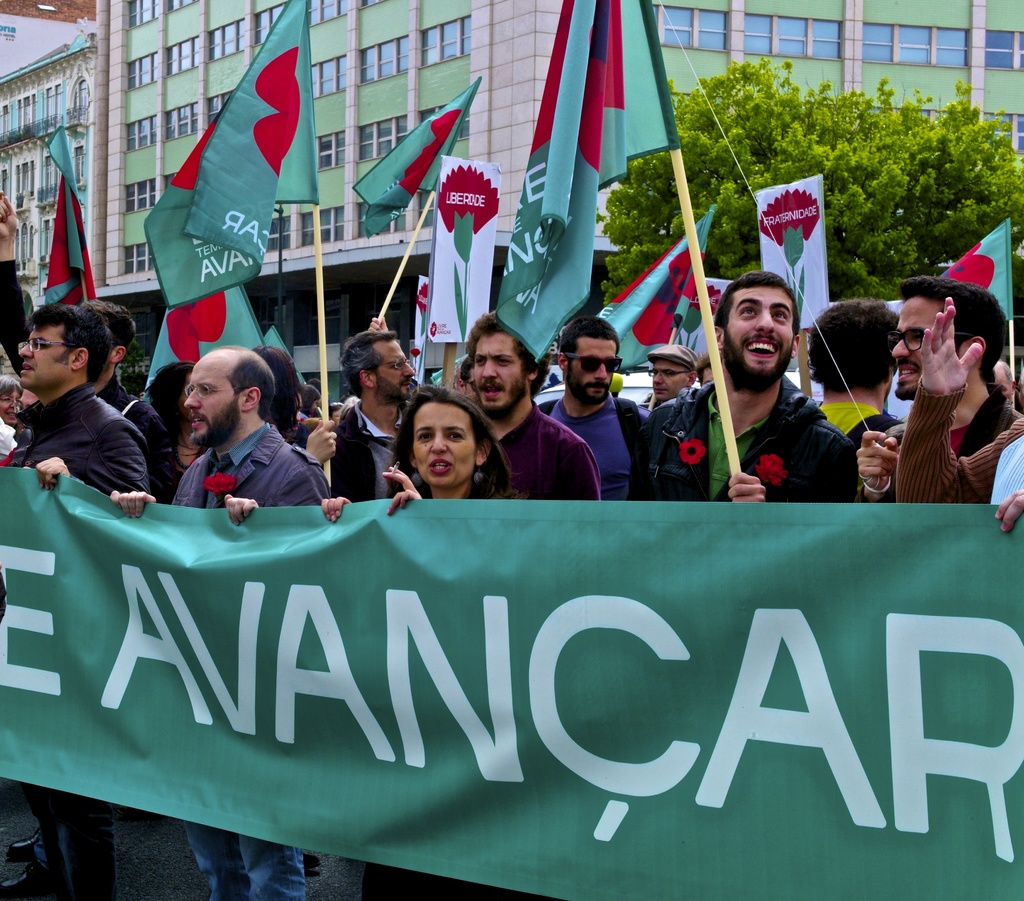Person: (0, 190, 1024, 900)
